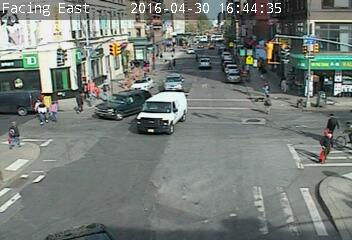neg: (334, 114, 351, 154), (204, 167, 226, 197), (224, 7, 246, 35), (290, 3, 311, 31), (157, 139, 175, 162), (248, 185, 266, 208), (75, 7, 92, 29), (82, 137, 98, 159), (85, 212, 101, 234), (187, 115, 202, 134), (209, 68, 222, 86), (230, 112, 243, 129), (149, 200, 162, 217), (301, 88, 312, 103), (142, 85, 153, 100), (175, 2, 186, 16), (229, 57, 239, 71), (136, 14, 146, 28), (162, 83, 172, 95), (115, 102, 124, 115), (308, 51, 317, 64), (132, 44, 141, 56), (263, 32, 272, 44), (152, 99, 161, 110), (46, 29, 55, 40), (190, 77, 198, 87), (238, 85, 244, 94), (327, 76, 332, 82)
pos: (309, 128, 334, 162), (2, 117, 24, 147), (40, 96, 62, 125), (66, 86, 88, 115), (80, 78, 100, 104), (35, 101, 52, 124), (325, 112, 342, 134), (276, 75, 292, 96), (30, 95, 46, 116), (260, 95, 275, 115), (260, 78, 272, 94), (98, 80, 109, 95), (189, 49, 199, 63), (171, 58, 179, 68), (166, 60, 173, 69)
